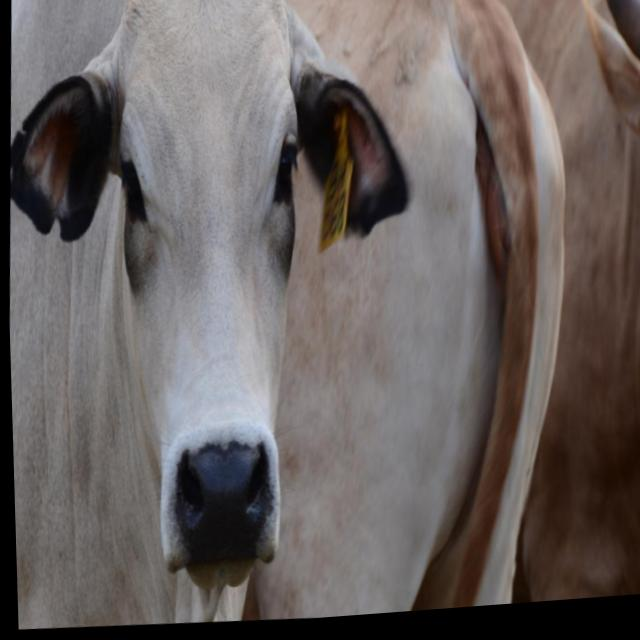cowFace: (0, 0, 425, 601)
